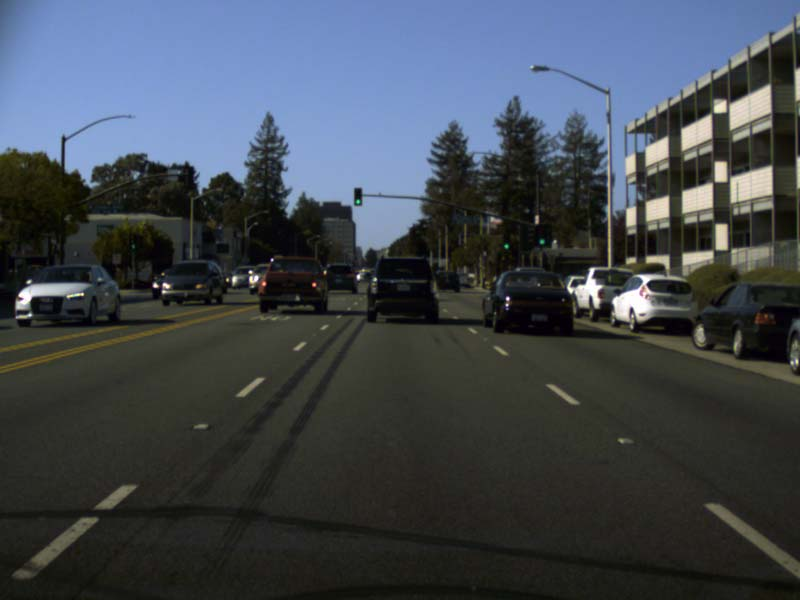Green: (536, 225, 546, 246), (353, 187, 361, 205), (503, 233, 510, 250), (129, 234, 136, 250)
